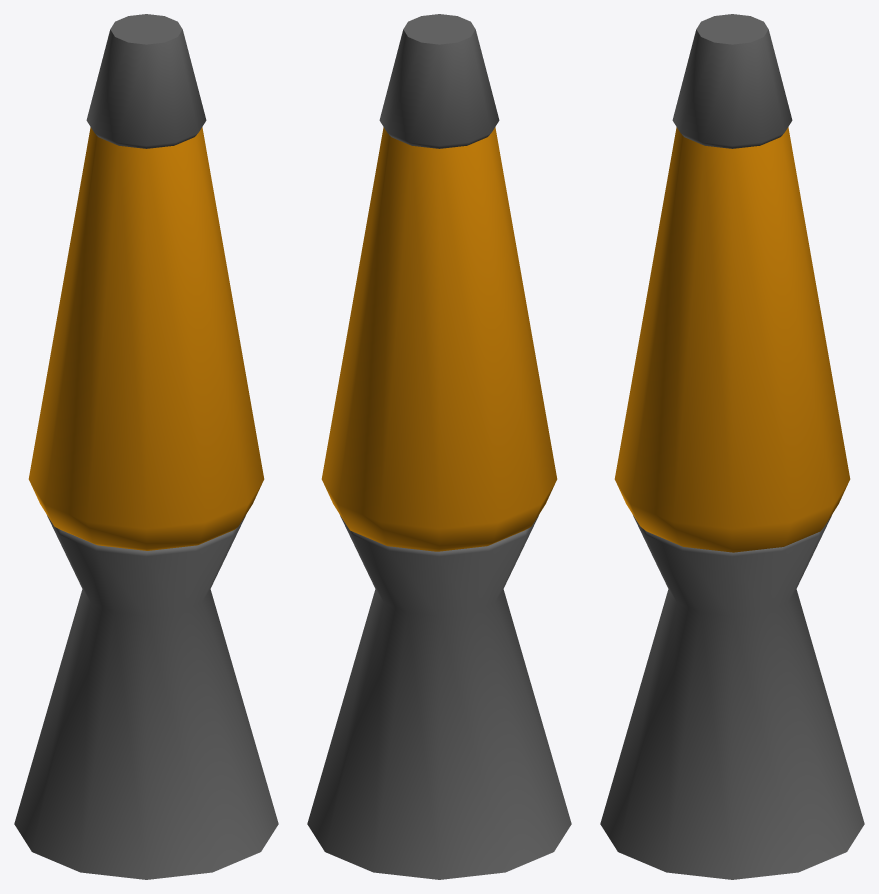
File: lavalamp.fbx
3 views of the same model, side by side, from view 1: azimuth 30°, elevation 25°; view 2: azimuth 150°, elevation 25°; view 3: azimuth 270°, elevation 25° (orthographic).
Parts seen in each view (by area): view 1: lamp; view 2: lamp; view 3: lamp.
Part boxes in pixels (<box>): lamp: <box>14,14,278,879</box>; lamp: <box>307,14,571,879</box>; lamp: <box>600,14,864,879</box>.
Size of the model in its own units: 281 by 932 by 281.
